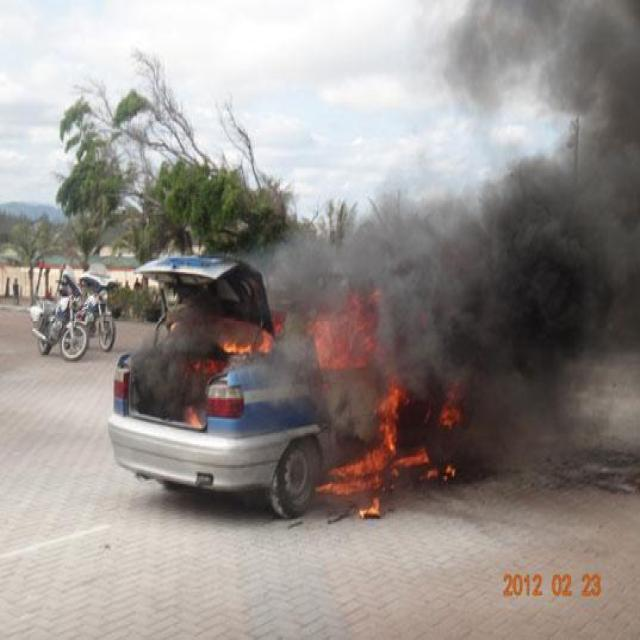Fire: (322, 386, 404, 498), (313, 294, 379, 371)
Smoke: (425, 0, 640, 361), (428, 363, 620, 467), (267, 198, 423, 292), (134, 306, 217, 418)
